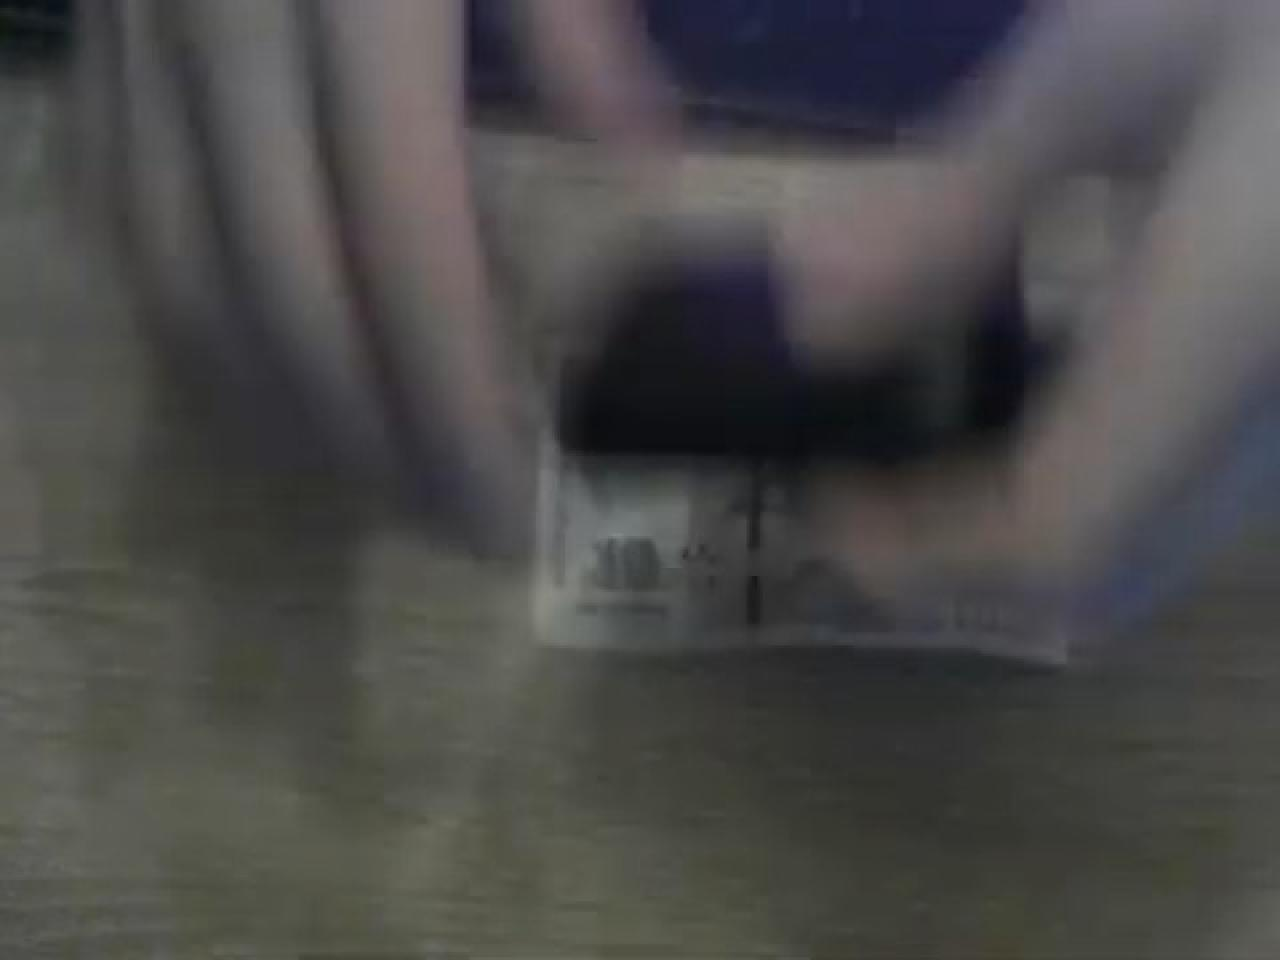10leva: (533, 216, 1072, 670)
